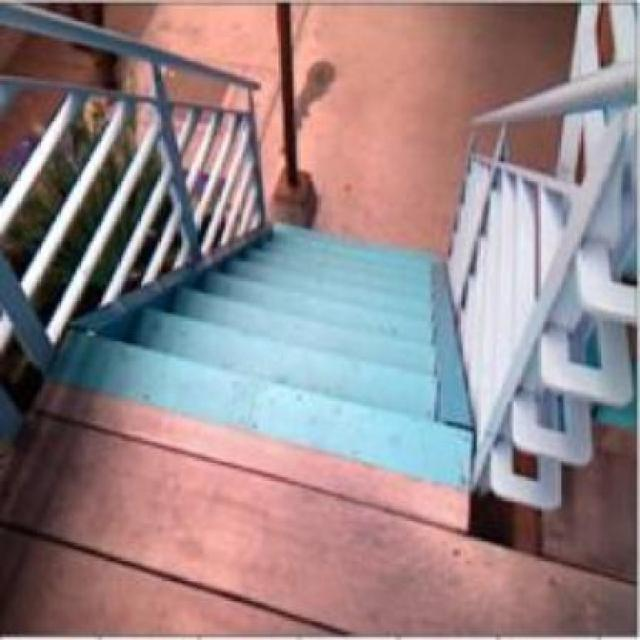stair: (54, 208, 480, 474)
